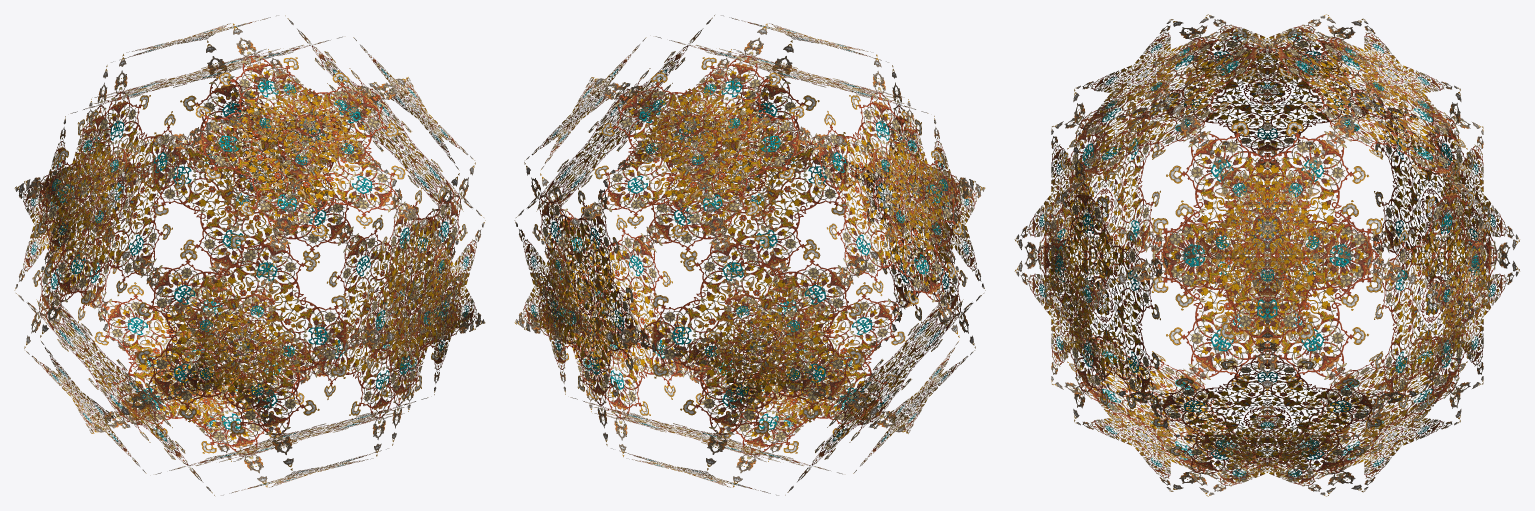
File: 3Icosidodecadodecahedron.gltf
3 views of the same model, side by side, from view 1: azimuth 30°, elevation 25°; view 2: azimuth 150°, elevation 25°; view 3: azimuth 270°, elevation 25° (orthographic). The views are drawn at different scales.
Parts seen in each view (by area): view 1: Icosidodecadodecahedron8; view 2: Icosidodecadodecahedron8; view 3: Icosidodecadodecahedron8.
Boxes of the visible parts, x1,y1,x2,y2 form: Icosidodecadodecahedron8: (14,15,485,495); Icosidodecadodecahedron8: (514,15,985,495); Icosidodecadodecahedron8: (1014,14,1519,496).
Bounding box in the file's own units: 2.62 × 2.62 × 2.62.
Materials: 1 (1 with a texture image).
